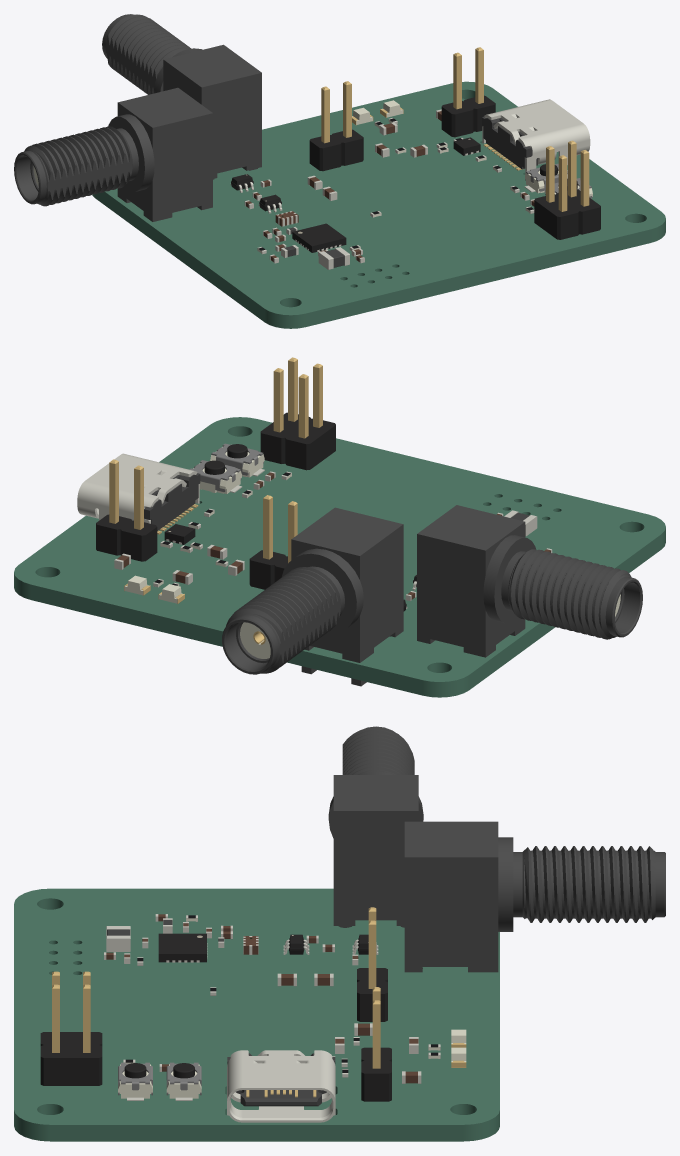
The model's file is LRC-0.glb.
3 renders of one model, top to bottom at view 1: azimuth 30°, elevation 25°; view 2: azimuth 150°, elevation 25°; view 3: azimuth 270°, elevation 25°, orthographic. The views are drawn at different scales.
Parts seen in each view (by area): view 1: =>[0:1:1:42], =>[0:1:1:29], =>[0:1:1:37], =>[0:1:1:35], =>[0:1:1:17] (×2), =>[0:1:1:39], =>[0:1:1:25], =>[0:1:1:13], =>[0:1:1:23]; view 2: =>[0:1:1:42], =>[0:1:1:29], =>[0:1:1:37], =>[0:1:1:35], =>[0:1:1:17] (×2), =>[0:1:1:39], =>[0:1:1:13] (×2); view 3: =>[0:1:1:42], =>[0:1:1:37], =>[0:1:1:29], =>[0:1:1:35], =>[0:1:1:39], =>[0:1:1:17] (×2), =>[0:1:1:13] (×2), =>[0:1:1:25], =>[0:1:1:23].
Part boxes in pixels (x1=…): =>[0:1:1:42]: x1=92, y1=81, x2=665, y2=328; =>[0:1:1:29]: x1=14, y1=87, x2=212, y2=221; =>[0:1:1:37]: x1=102, y1=14, x2=261, y2=179; =>[0:1:1:35]: x1=482, y1=99, x2=590, y2=173; =>[0:1:1:17] (×2): x1=309, y1=47, x2=495, y2=171; =>[0:1:1:39]: x1=534, y1=140, x2=600, y2=239; =>[0:1:1:25]: x1=292, y1=223, x2=346, y2=252; =>[0:1:1:13]: x1=524, y1=163, x2=567, y2=193; =>[0:1:1:23]: x1=318, y1=247, x2=349, y2=269; =>[0:1:1:42]: x1=14, y1=417, x2=665, y2=697; =>[0:1:1:29]: x1=417, y1=505, x2=642, y2=657; =>[0:1:1:37]: x1=222, y1=507, x2=403, y2=686; =>[0:1:1:35]: x1=77, y1=453, x2=200, y2=534; =>[0:1:1:17] (×2): x1=96, y1=459, x2=297, y2=589; =>[0:1:1:39]: x1=260, y1=357, x2=335, y2=470; =>[0:1:1:13] (×2): x1=190, y1=443, x2=264, y2=493; =>[0:1:1:42]: x1=14, y1=888, x2=499, y2=1141; =>[0:1:1:37]: x1=404, y1=821, x2=665, y2=972; =>[0:1:1:29]: x1=328, y1=726, x2=423, y2=927; =>[0:1:1:35]: x1=227, y1=1050, x2=335, y2=1122; =>[0:1:1:39]: x1=40, y1=971, x2=102, y2=1085; =>[0:1:1:17] (×2): x1=357, y1=907, x2=391, y2=1101; =>[0:1:1:13] (×2): x1=118, y1=1062, x2=201, y2=1100; =>[0:1:1:25]: x1=158, y1=933, x2=207, y2=962; =>[0:1:1:23]: x1=106, y1=926, x2=130, y2=951.
Bounding box in the file's own units: 0.0582 × 0.0134 × 0.0536.
